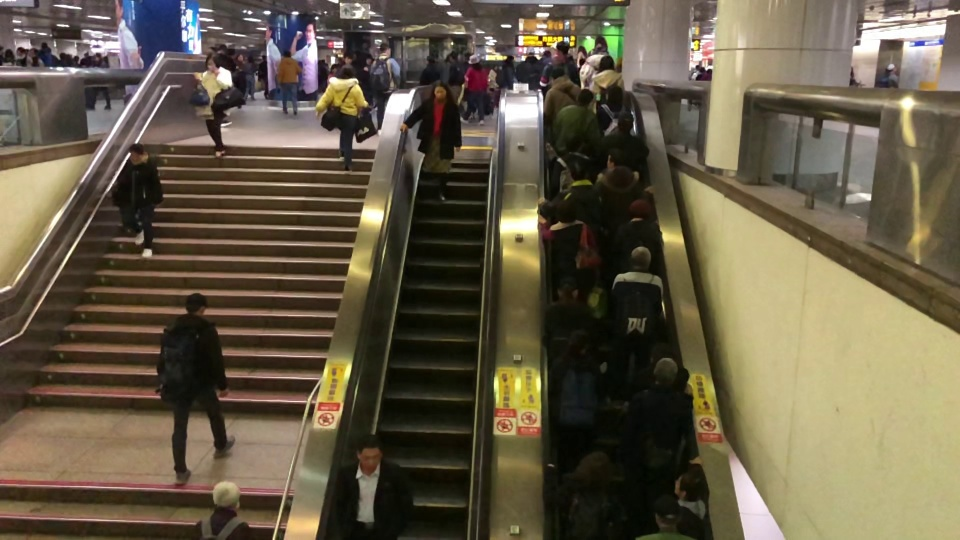person_head: (574, 449, 613, 488), (355, 433, 384, 472), (671, 469, 705, 502), (651, 493, 682, 529), (211, 479, 241, 513), (650, 357, 678, 388), (564, 327, 591, 358), (627, 244, 652, 274), (626, 197, 654, 221), (183, 291, 209, 316), (555, 274, 578, 301), (554, 199, 578, 224), (605, 146, 628, 169), (570, 158, 589, 182), (616, 111, 634, 135), (564, 131, 584, 152), (575, 87, 594, 109), (430, 81, 450, 101), (606, 84, 623, 106), (596, 55, 615, 73), (128, 142, 145, 162), (336, 63, 356, 80), (204, 53, 220, 71), (549, 65, 566, 81), (555, 41, 570, 58), (467, 54, 481, 69), (378, 43, 392, 57), (15, 47, 27, 59), (3, 47, 14, 60), (591, 47, 608, 55), (885, 62, 897, 73), (343, 50, 353, 63), (28, 47, 39, 58), (40, 40, 50, 52), (448, 50, 458, 62), (92, 52, 102, 63), (504, 55, 515, 65), (364, 53, 372, 64), (282, 50, 291, 59), (329, 63, 337, 73), (526, 46, 534, 56), (236, 53, 244, 62), (426, 56, 435, 64), (705, 67, 713, 76), (543, 50, 551, 58), (247, 55, 254, 64), (698, 66, 705, 74), (694, 64, 700, 73), (261, 54, 266, 61), (317, 60, 322, 65)
person_vbox: (155, 291, 236, 485), (615, 357, 702, 518), (605, 244, 663, 408), (333, 433, 415, 540), (548, 328, 604, 472), (399, 81, 462, 201), (541, 449, 620, 540), (536, 199, 602, 298), (314, 63, 369, 172), (115, 141, 163, 259), (536, 157, 604, 239), (539, 275, 598, 366), (606, 197, 662, 287), (594, 145, 655, 222), (191, 52, 233, 158), (188, 479, 256, 540), (547, 86, 602, 156), (549, 131, 597, 199), (629, 493, 698, 540), (368, 43, 401, 136), (670, 469, 709, 540), (598, 111, 650, 164), (542, 65, 581, 127), (539, 40, 581, 93), (588, 55, 624, 114), (459, 54, 488, 126), (275, 50, 303, 116), (596, 84, 630, 135), (86, 52, 111, 111), (578, 47, 610, 92), (446, 50, 464, 105), (523, 46, 539, 90), (360, 53, 373, 107), (235, 53, 247, 110), (418, 56, 440, 85), (243, 55, 255, 101), (687, 65, 699, 111), (693, 65, 706, 107), (257, 54, 268, 100), (501, 54, 515, 89), (38, 40, 53, 66), (883, 62, 898, 88), (26, 46, 44, 67), (337, 50, 353, 72), (316, 60, 326, 94), (14, 46, 29, 67), (1, 47, 17, 66), (326, 63, 337, 86), (539, 49, 554, 65), (698, 67, 713, 81)
